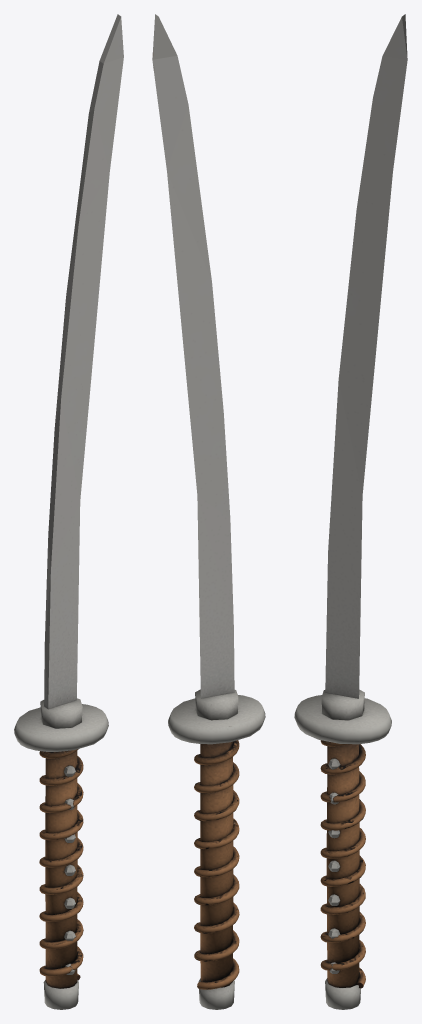
File: arma_katana_comum.glb
3 renders of one model, left to right at view 1: azimuth 30°, elevation 25°; view 2: azimuth 210°, elevation 25°; view 3: azimuth 330°, elevation 25°, orthographic. The views are drawn at different scales.
Parts seen in each view (by area): view 1: arma_katana_comum; view 2: arma_katana_comum; view 3: arma_katana_comum.
Part boxes in pixels (box(x1,y1,x2,y2)): arma_katana_comum: box(14, 14, 123, 1009); arma_katana_comum: box(152, 14, 265, 1009); arma_katana_comum: box(294, 14, 407, 1009).
Size of the model in its own units: 0.1174 by 1.04 by 0.0768.
1 material, 1 textured.
